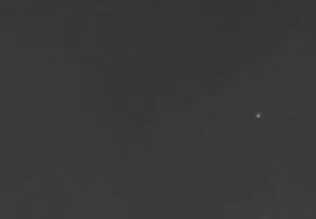Target: (256, 113, 259, 117)
